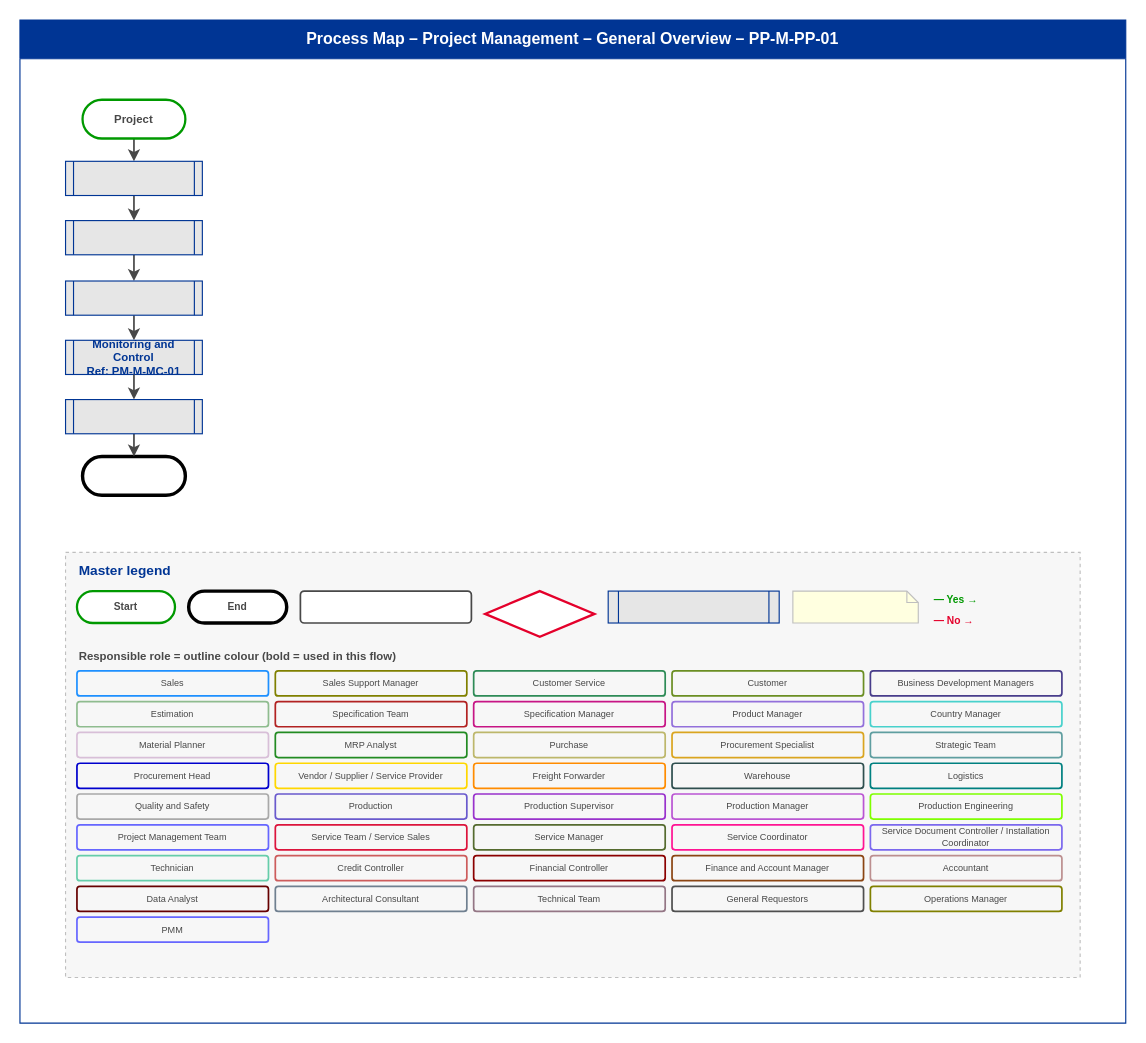
The diagram is 1146 pixels wide and 1043 high, and some of its shapes have lost their labels. The shapes that lost their labels are listed below. From the top down, each one's box as (x1, y1, x2, y2) in pixels, then its label:
(64, 160, 202, 196): Initiation Ref: PM-M-IN-01
(64, 219, 202, 255): Planning Ref: PM-M-PL-01
(64, 280, 202, 315): Execution Ref: PM-M-EX-01
(64, 398, 202, 434): Closing Ref: PM-M-CL-01
(80, 454, 187, 496): Complete!
(299, 590, 472, 623): Activity (outline = role)
(483, 589, 595, 637): Decision
(607, 590, 779, 623): Linked process (Ref ID)
(792, 590, 918, 623): Note / checklist
